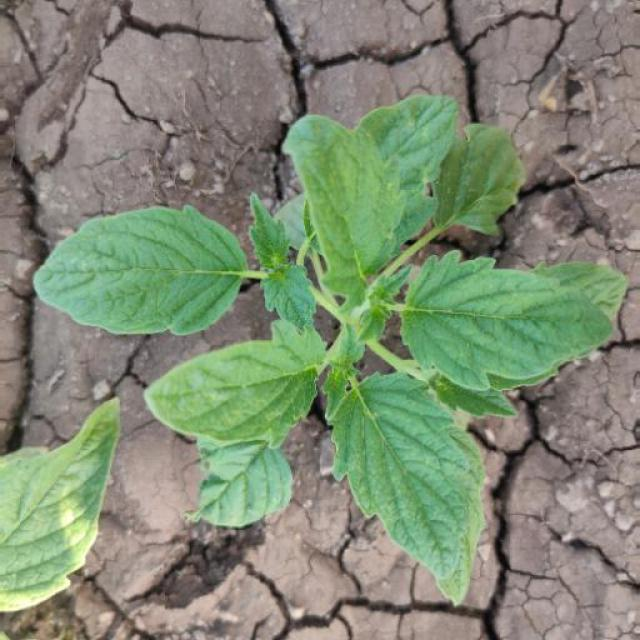crop: (29, 86, 629, 545)
